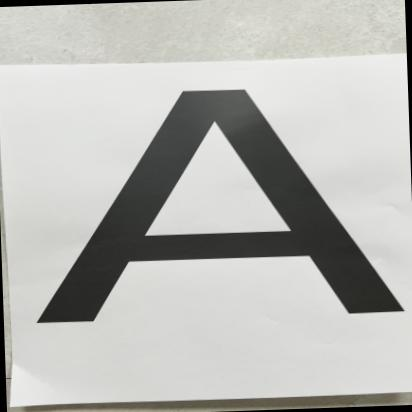seat: (56, 65, 412, 355)
